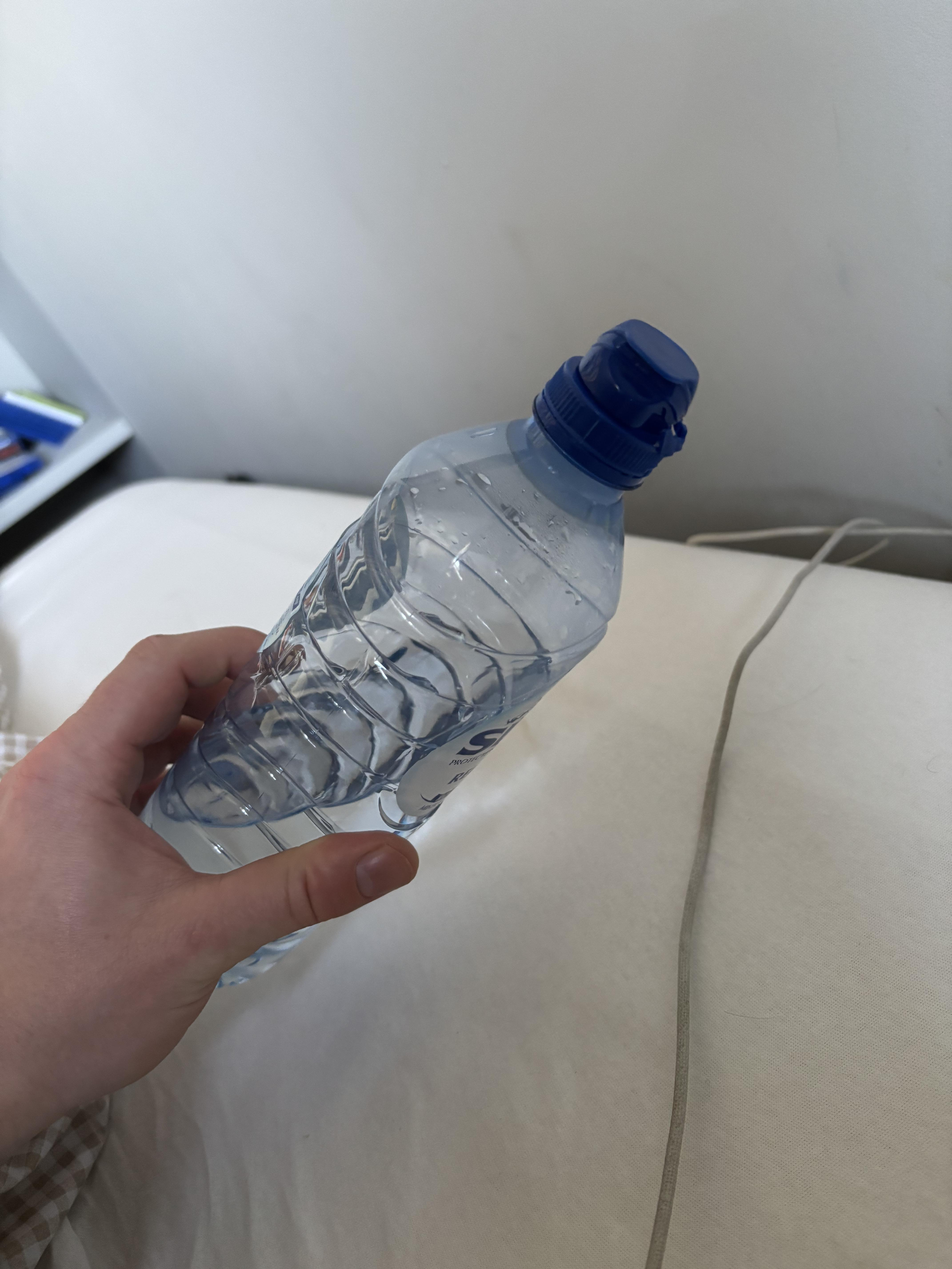Plastic: (136, 311, 703, 989)
